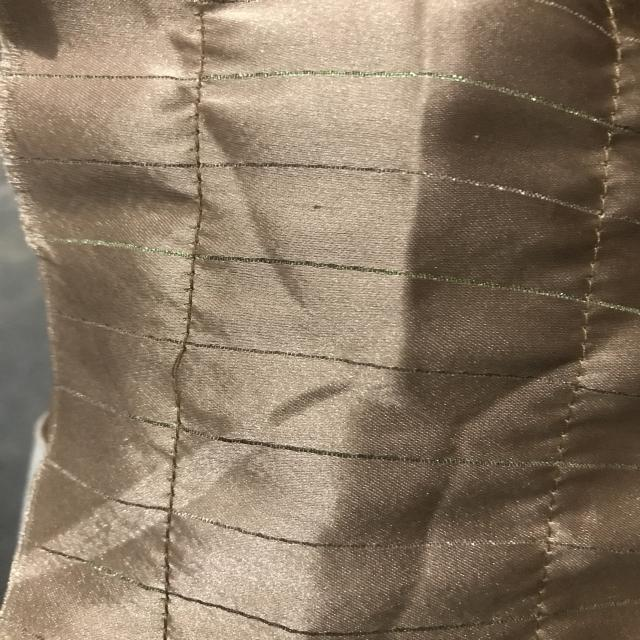skip: (141, 329, 207, 411)
